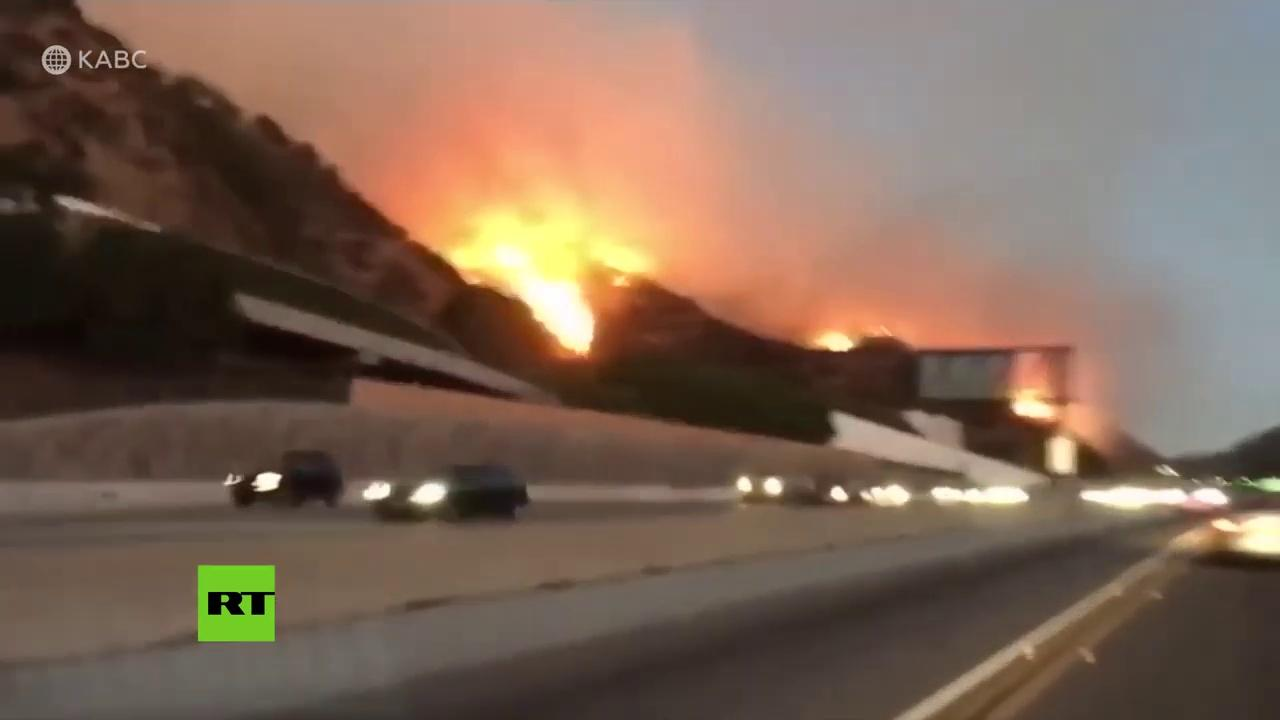Fire: (440, 203, 653, 359), (812, 326, 857, 354), (1014, 390, 1055, 420)
